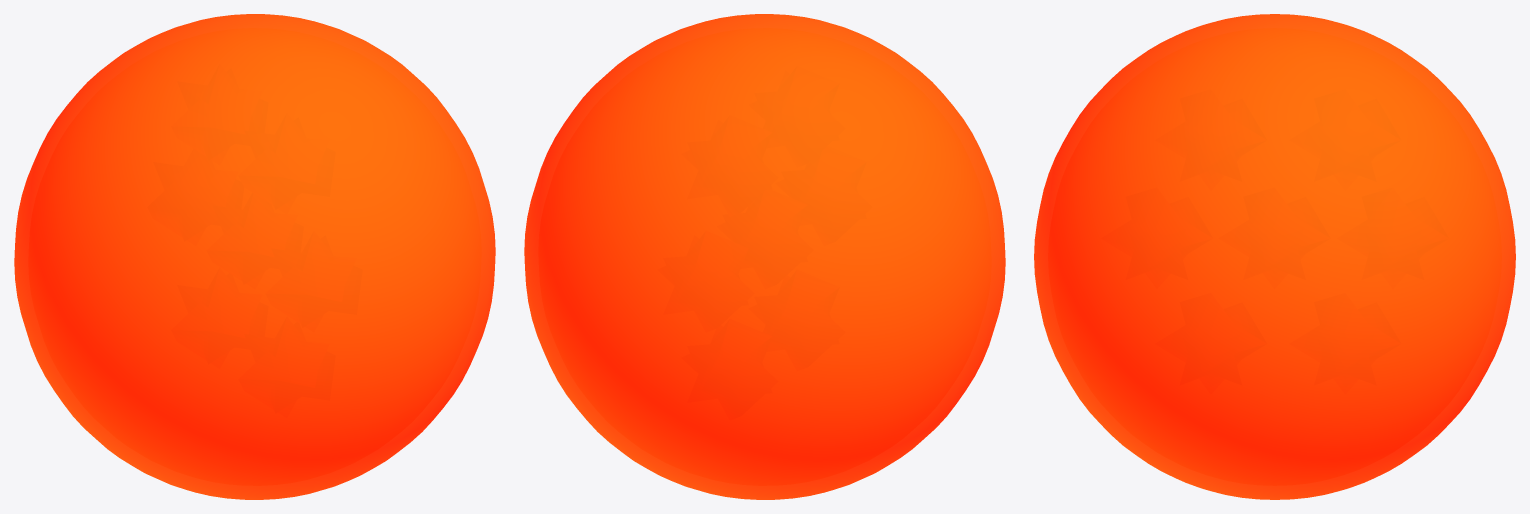
File: dragon ball 7.glb
3 renders of one model, left to right at view 1: azimuth 30°, elevation 25°; view 2: azimuth 150°, elevation 25°; view 3: azimuth 270°, elevation 25°, orthographic.
Parts seen in each view (by area): view 1: Dragon ball 7; view 2: Dragon ball 7; view 3: Dragon ball 7.
Boxes of the visible parts, x1,y1,x2,y2 form: Dragon ball 7: [14, 14, 495, 499]; Dragon ball 7: [524, 14, 1005, 499]; Dragon ball 7: [1034, 14, 1515, 499].
Size of the model in its own units: 4.28 by 4.34 by 4.28.
